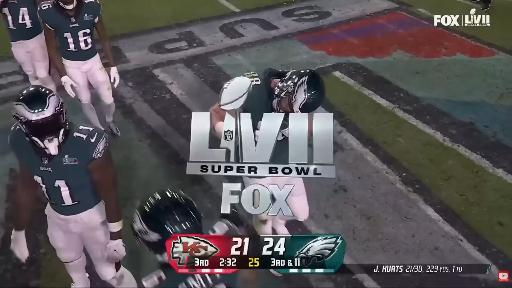Helmet: (132, 190, 202, 262), (13, 86, 68, 154), (273, 70, 325, 113), (56, 0, 77, 9)
Jersey: (9, 123, 107, 215), (38, 0, 101, 61), (242, 69, 286, 131), (142, 264, 238, 287), (143, 264, 237, 287), (1, 0, 43, 42)
Player: (9, 86, 136, 287), (132, 190, 257, 287), (38, 0, 120, 135), (240, 69, 325, 164), (0, 0, 55, 90)
